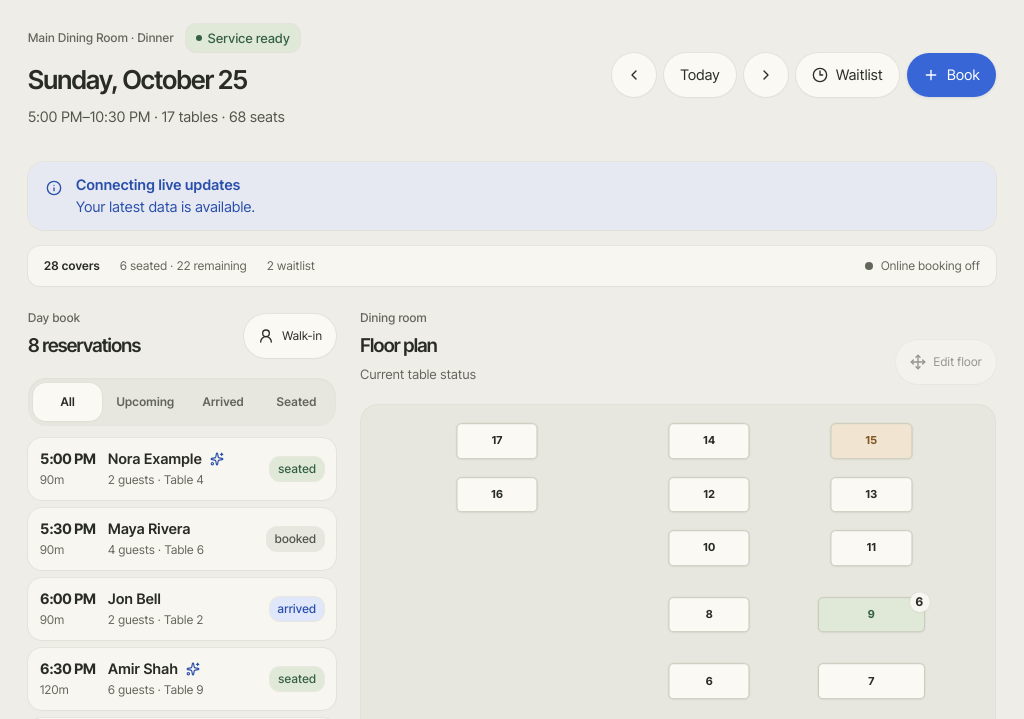
Test: reservation host capability affordances › omits edit and cancellation for seated and terminal reservations
What coordinates should you click on to do the following:
click the button "5:00 PM 90m Nora Example 2 guests · Table 4 seated"
I would click on:
 (182, 469)
Its box is [28,438,336,500].
(page scrolled)
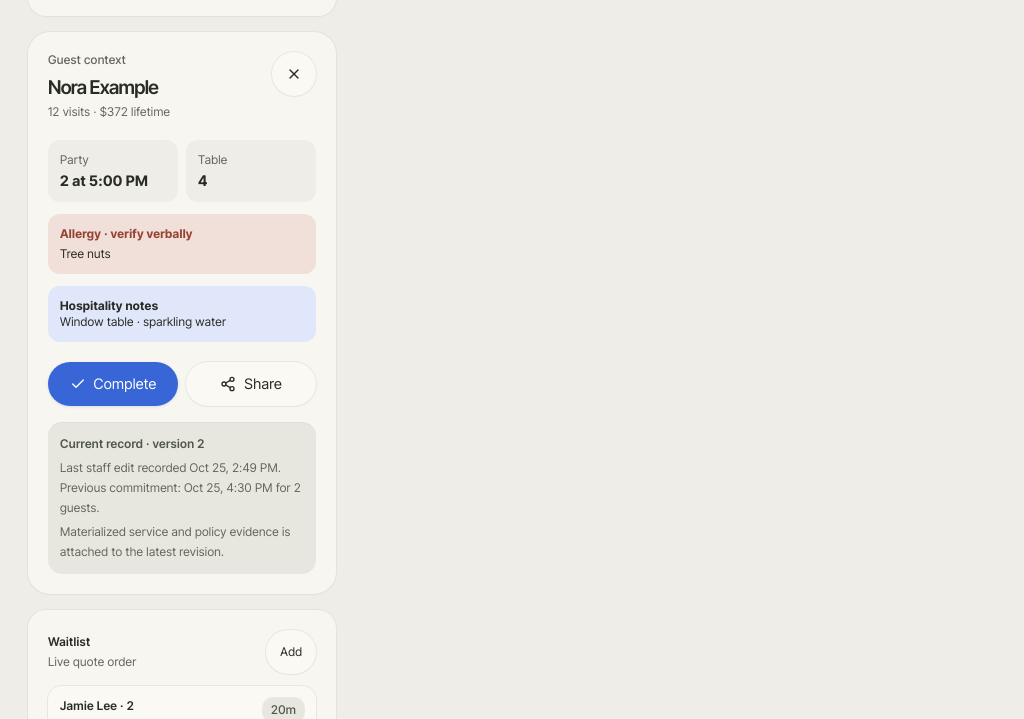
Expected: the button "Complete" is shown, [48,362,178,406]
